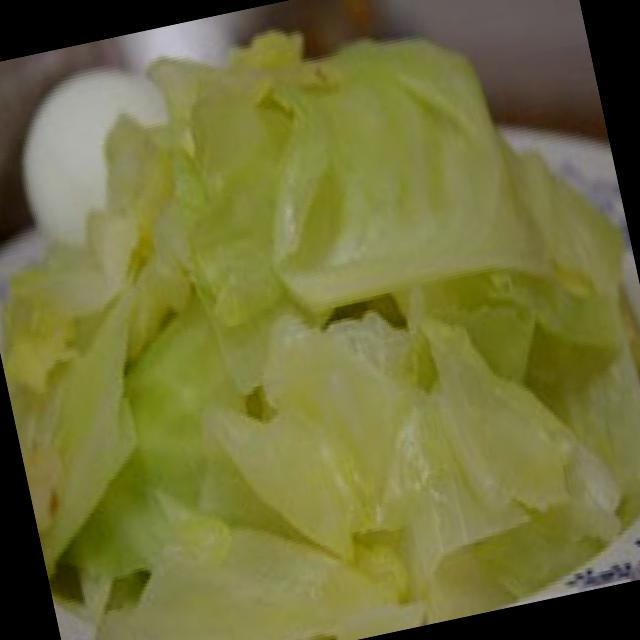bap cai luoc: (1, 32, 640, 640)
